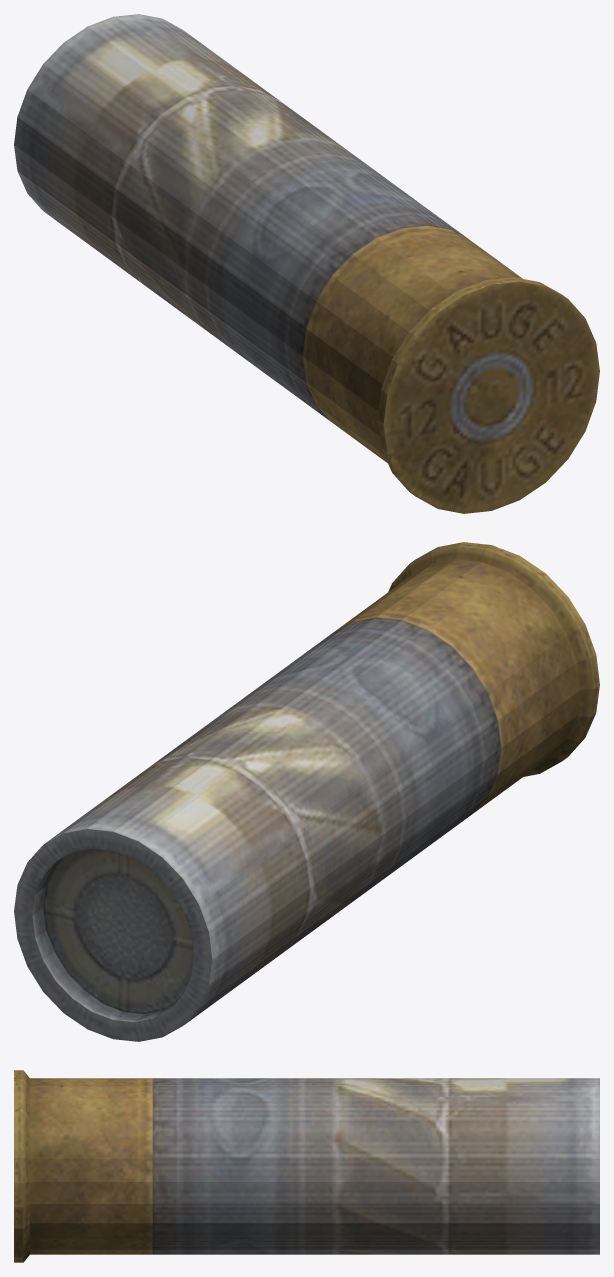
The picture shows the model from 3 angles, top to bottom: view 1: azimuth 30°, elevation 25°; view 2: azimuth 150°, elevation 25°; view 3: azimuth 270°, elevation 25°; orthographic projection. The views are drawn at different scales.
Parts seen in each view (by area): view 1: TW_5c0d591486f7744c505b416f_PZ_Import; view 2: TW_5c0d591486f7744c505b416f_PZ_Import; view 3: TW_5c0d591486f7744c505b416f_PZ_Import.
Part boxes in pixels (bbox=[...]): TW_5c0d591486f7744c505b416f_PZ_Import: bbox=[14, 14, 599, 513]; TW_5c0d591486f7744c505b416f_PZ_Import: bbox=[14, 542, 599, 1041]; TW_5c0d591486f7744c505b416f_PZ_Import: bbox=[14, 1070, 599, 1262].
Size of the model in its own units: 0.0123 by 0.0373 by 0.0123.
1 material, 1 textured.
